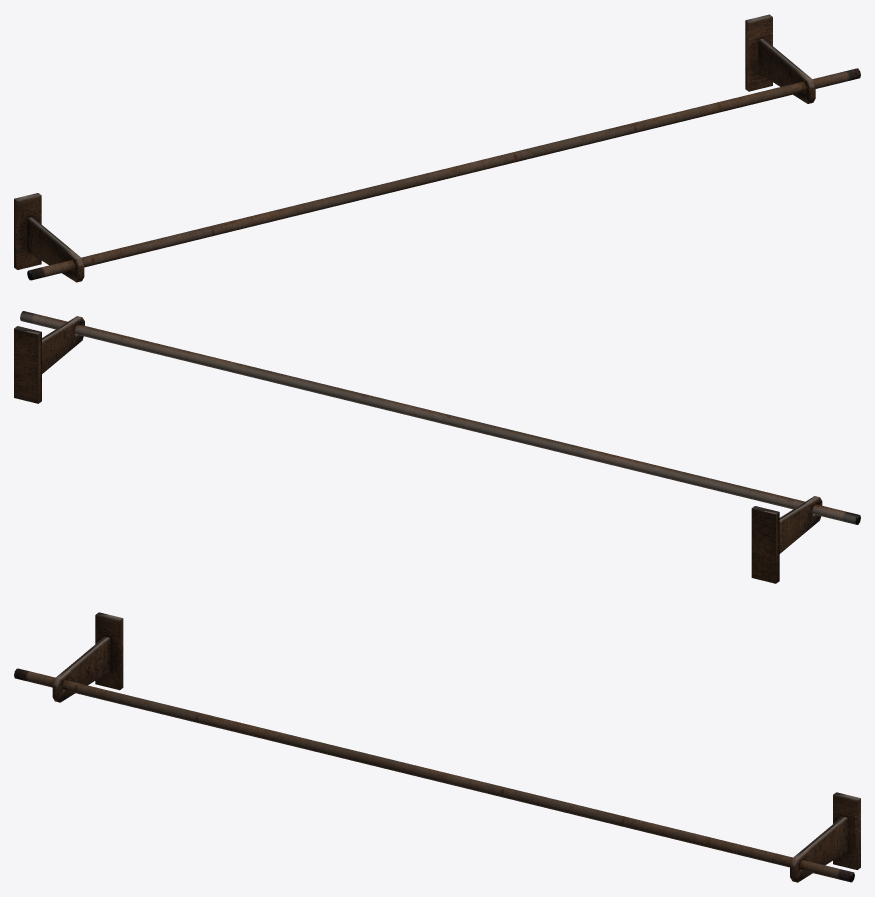
Rendered from ShopCurtain_Bar.fbx.
3 renders of one model, top to bottom at view 1: azimuth 30°, elevation 25°; view 2: azimuth 150°, elevation 25°; view 3: azimuth 330°, elevation 25°, orthographic.
Parts seen in each view (by area): view 1: ShopCurtain_Bar; view 2: ShopCurtain_Bar; view 3: ShopCurtain_Bar.
Boxes of the visible parts, x1,y1,x2,y2 form: ShopCurtain_Bar: [14, 14, 860, 282]; ShopCurtain_Bar: [14, 311, 860, 583]; ShopCurtain_Bar: [14, 612, 860, 882].
Size of the model in its own units: 233 by 18.52 by 27.07.
1 material, 1 textured.
